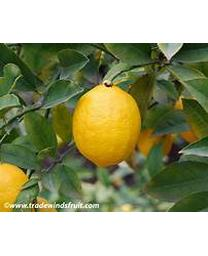lemon: (72, 85, 141, 168)
